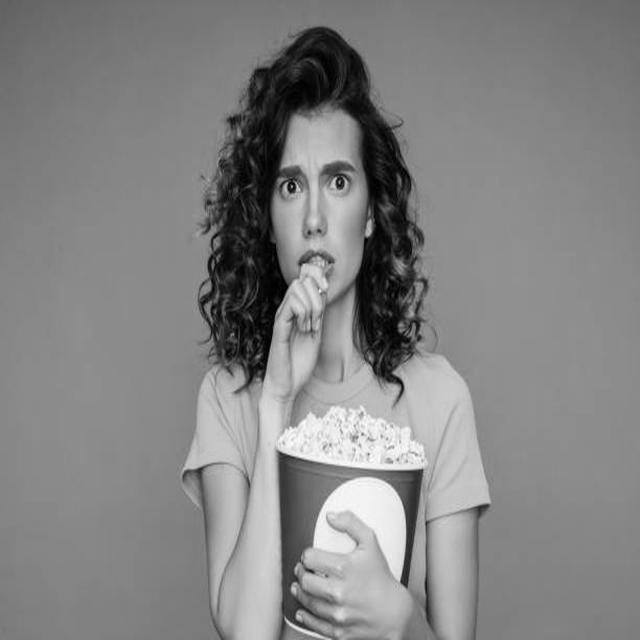Happiness: (270, 105, 366, 308)
